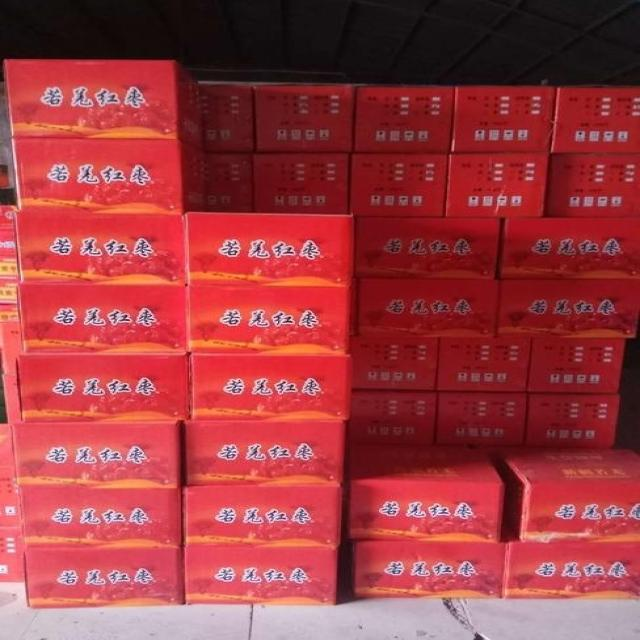box: (5, 59, 202, 149), (346, 447, 505, 545), (13, 135, 203, 215), (17, 210, 189, 286), (12, 417, 185, 491), (504, 447, 640, 541), (185, 211, 353, 287), (18, 278, 188, 352), (16, 352, 190, 420), (185, 283, 355, 352), (190, 351, 351, 421), (184, 419, 345, 487), (18, 482, 185, 547), (182, 483, 346, 547), (185, 543, 345, 606), (494, 209, 640, 278), (355, 216, 505, 281), (24, 549, 185, 608), (502, 532, 640, 600), (497, 277, 639, 339), (354, 277, 496, 339), (350, 542, 502, 598), (452, 84, 556, 152), (355, 82, 455, 152), (253, 84, 354, 153), (447, 150, 550, 216), (350, 154, 450, 218), (546, 154, 640, 219), (551, 86, 640, 154), (253, 152, 350, 214), (434, 336, 530, 395), (434, 393, 529, 452), (522, 391, 620, 448), (529, 337, 626, 394), (348, 337, 439, 392), (348, 391, 435, 444), (194, 80, 257, 152), (206, 152, 254, 213), (3, 425, 20, 528), (0, 302, 22, 375), (0, 204, 20, 280), (1, 526, 26, 584), (0, 375, 21, 423), (0, 276, 18, 304)
